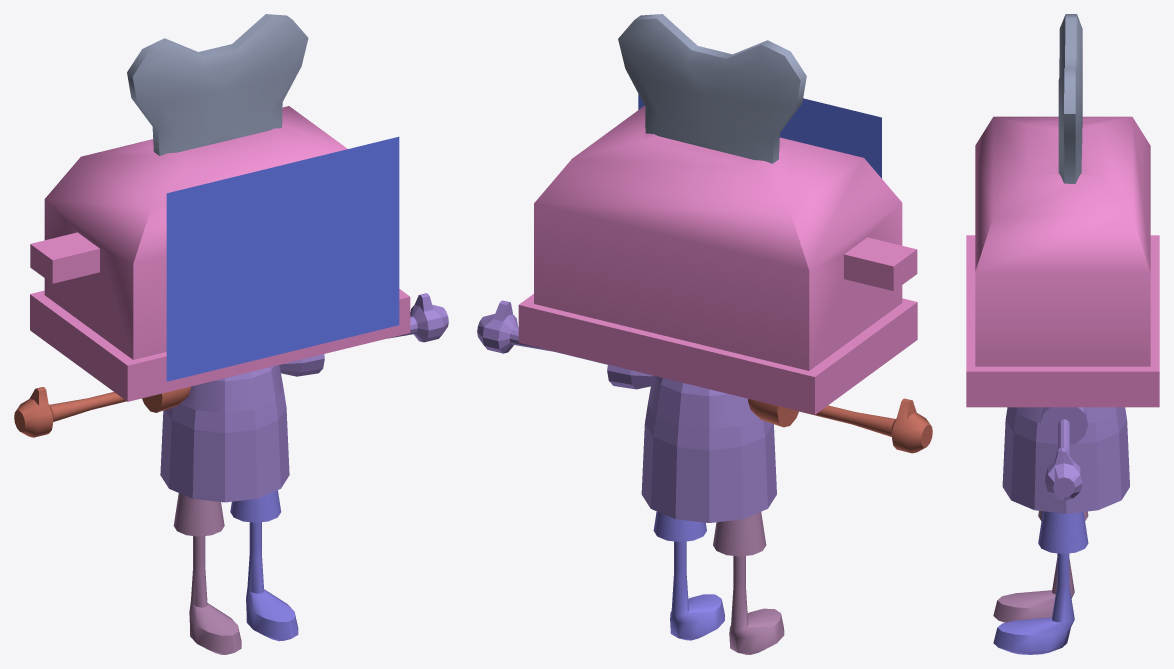
3 views of the same model, side by side, from view 1: azimuth 30°, elevation 25°; view 2: azimuth 150°, elevation 25°; view 3: azimuth 270°, elevation 25° (orthographic). The views are drawn at different scales.
Visible parts, largest first — view 1: Object_3, Object_2, Object_2.003, split_parent_3, Object_2.012, Object_2.038, Object_2.069; view 2: Object_2, split_parent_3, Object_2.003, Object_2.012, Object_3, Object_2.038, Object_2.069; view 3: Object_2, split_parent_3, Object_2.038, Object_2.003, Object_2.012.
Part boxes in pixels (bbox=[...]): Object_3: bbox=[166, 136, 399, 381]; Object_2: bbox=[30, 106, 410, 401]; Object_2.003: bbox=[127, 14, 308, 155]; split_parent_3: bbox=[160, 293, 448, 502]; Object_2.012: bbox=[173, 493, 241, 654]; Object_2.038: bbox=[230, 490, 298, 641]; Object_2.069: bbox=[14, 386, 191, 437]; Object_2: bbox=[518, 105, 917, 414]; split_parent_3: bbox=[477, 300, 776, 522]; Object_2.003: bbox=[618, 14, 806, 163]; Object_2.012: bbox=[713, 512, 784, 654]; Object_3: bbox=[638, 94, 881, 178]; Object_2.038: bbox=[653, 511, 724, 640]; Object_2.069: bbox=[748, 398, 932, 453]; Object_2: bbox=[966, 116, 1159, 407]; split_parent_3: bbox=[1002, 407, 1129, 513]; Object_2.038: bbox=[993, 511, 1088, 654]; Object_2.003: bbox=[1058, 14, 1082, 183]; Object_2.012: bbox=[993, 511, 1088, 622].
Size of the model in its own units: 0.7404 by 1 by 0.3038.
